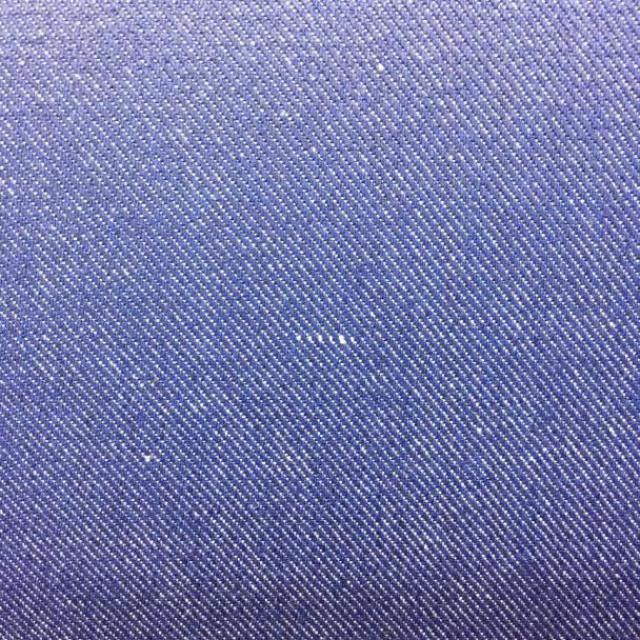Knot: (295, 333, 358, 348)
